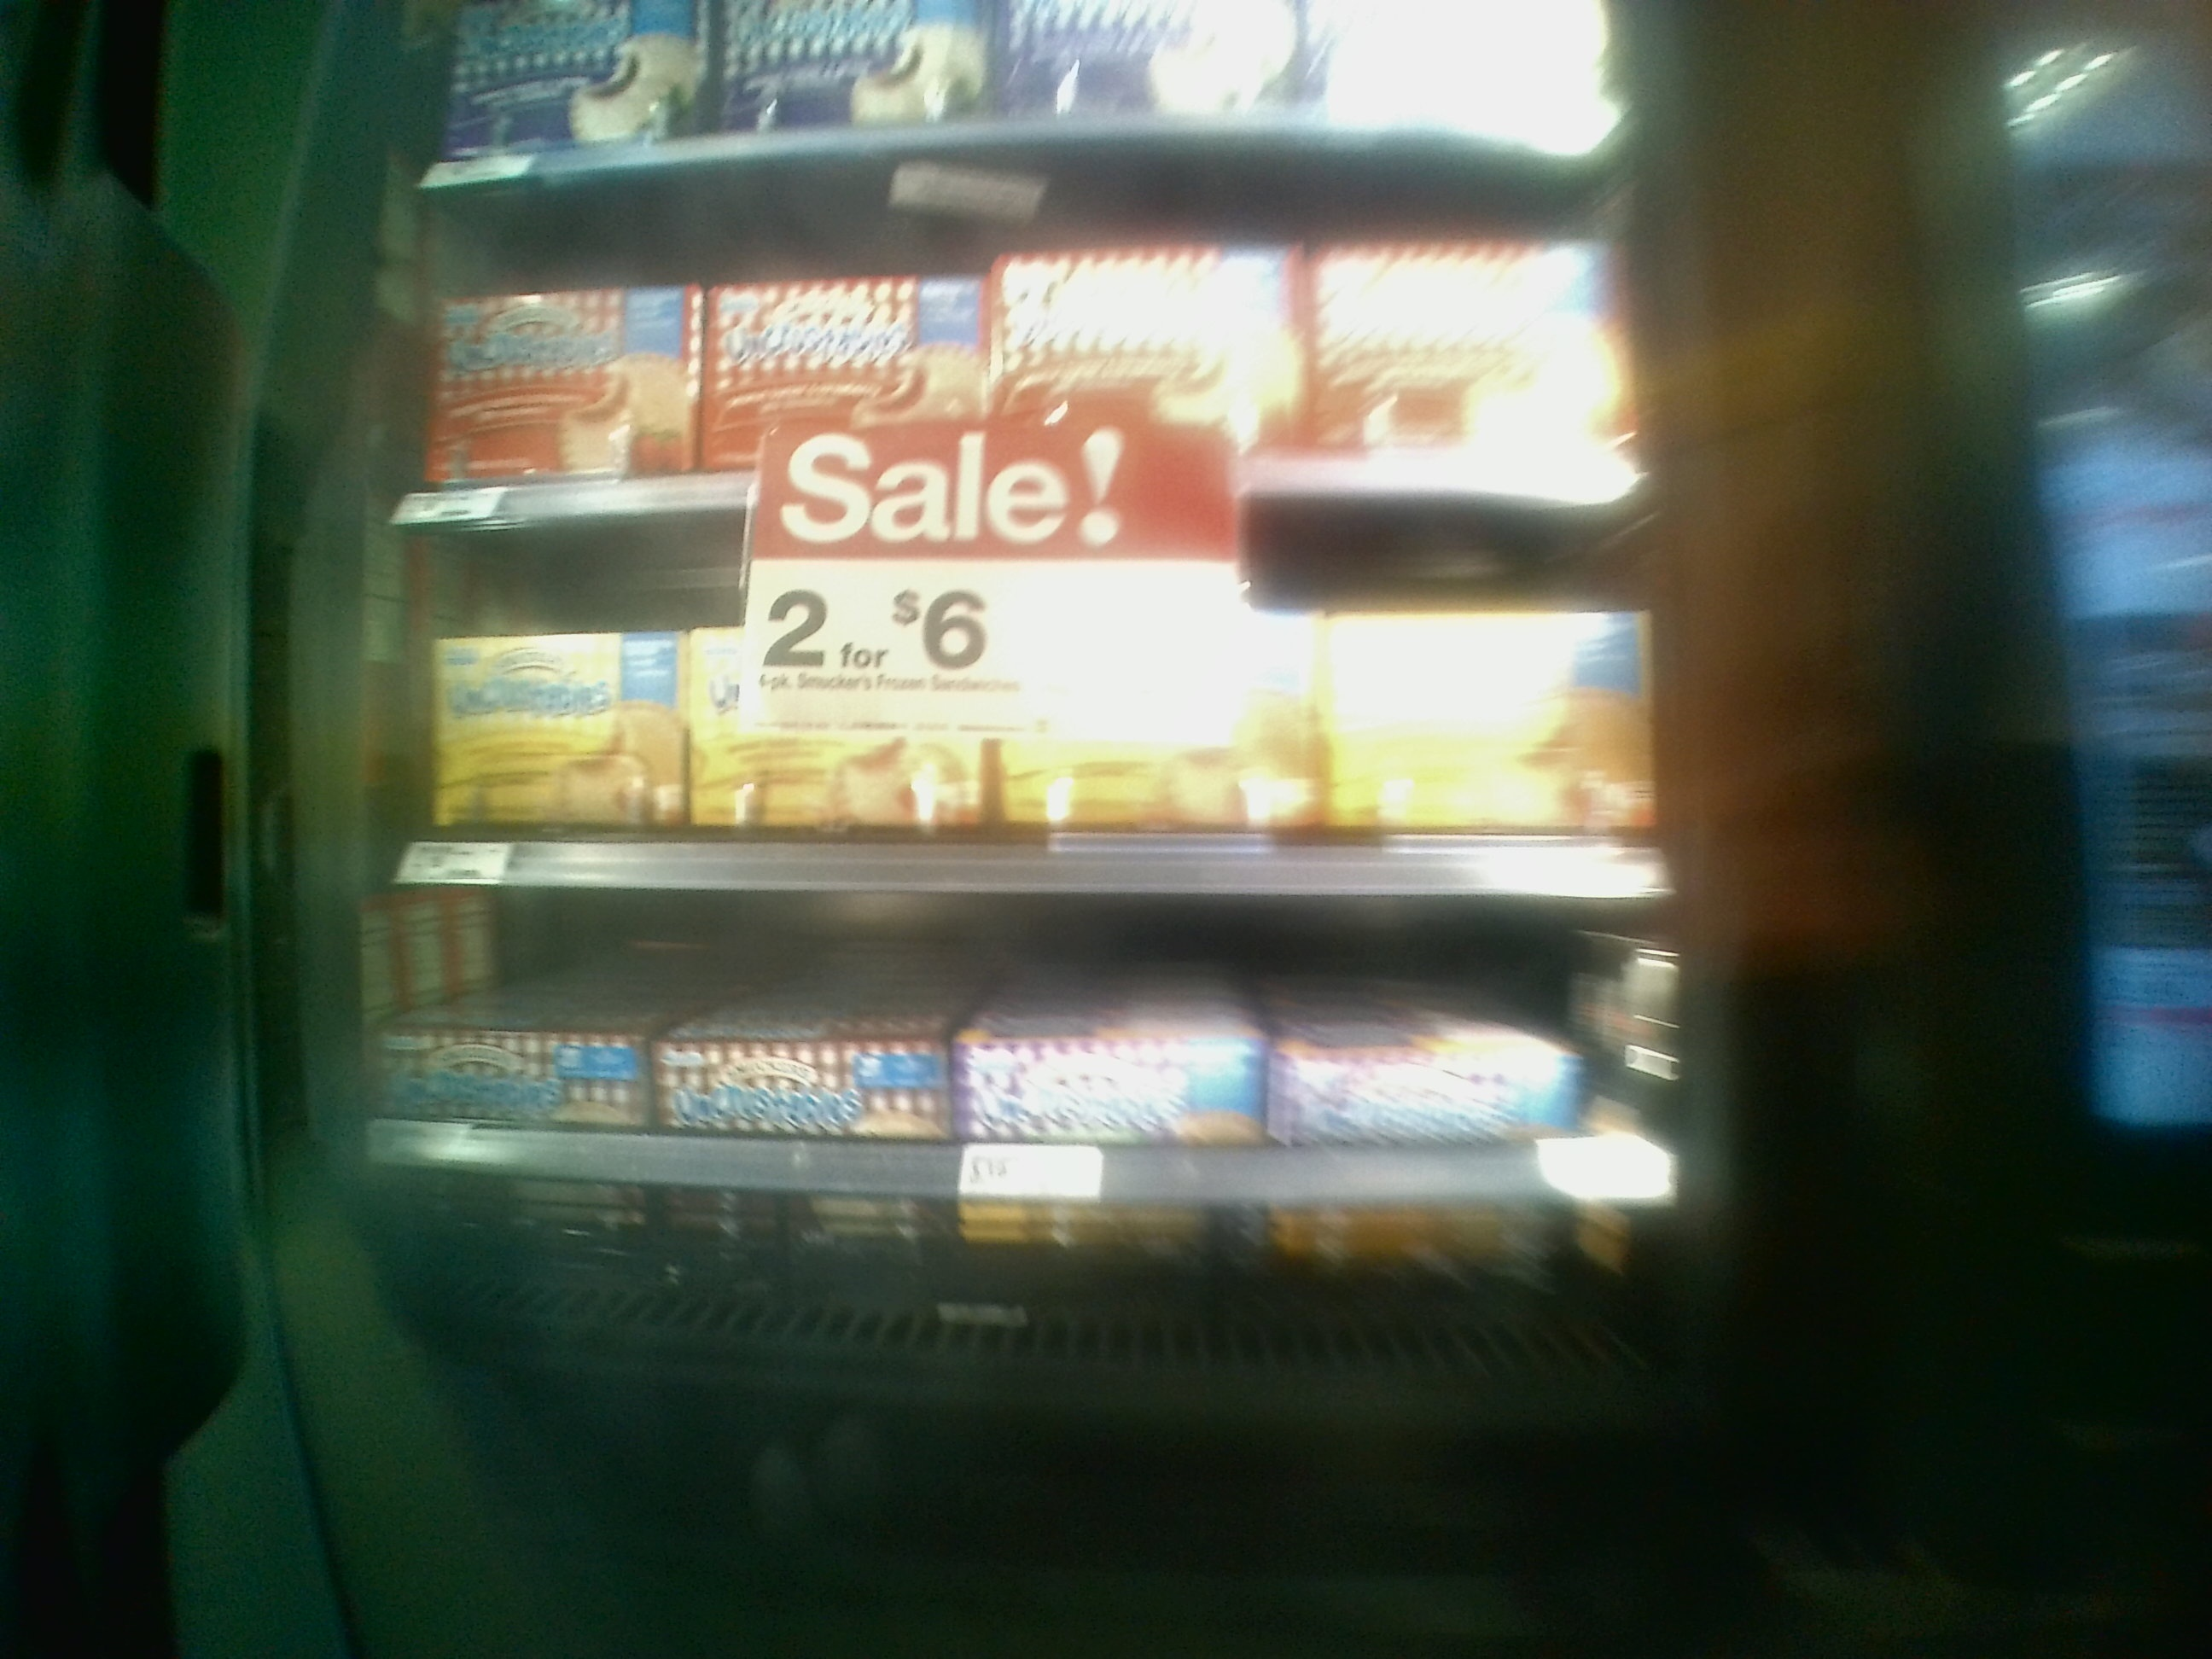shelf: (385, 511, 1651, 896), (404, 181, 1604, 505)
